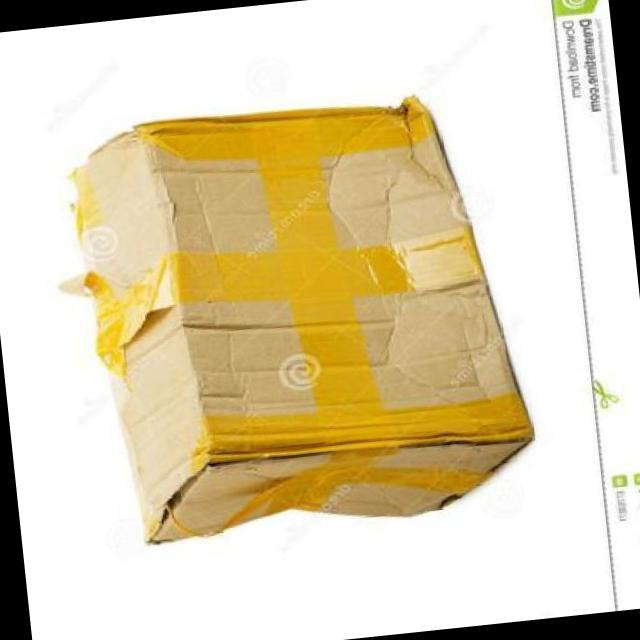box: (60, 95, 537, 549)
crushed: (322, 114, 504, 430), (201, 490, 428, 548)
